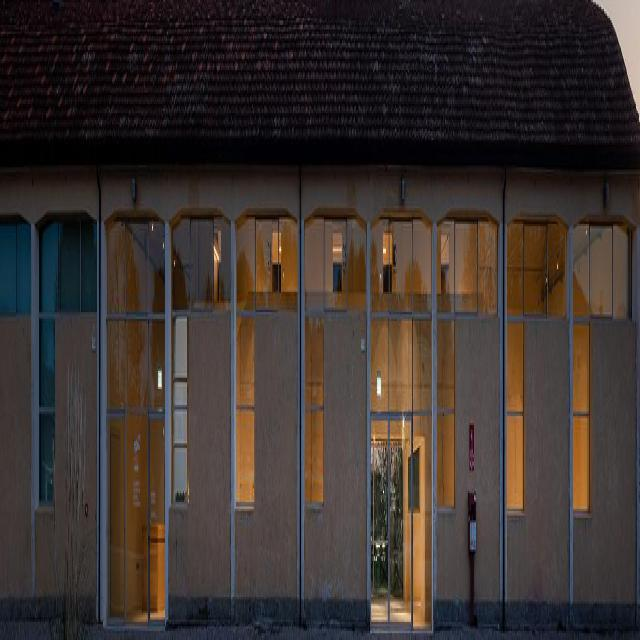door: (370, 404, 412, 628), (107, 402, 127, 622), (147, 405, 165, 630)
window: (369, 214, 432, 638), (107, 221, 165, 627), (436, 214, 498, 514), (235, 216, 298, 504), (170, 217, 232, 507), (505, 224, 566, 514), (305, 218, 366, 503), (572, 227, 631, 513), (39, 209, 96, 493), (0, 222, 31, 339)
